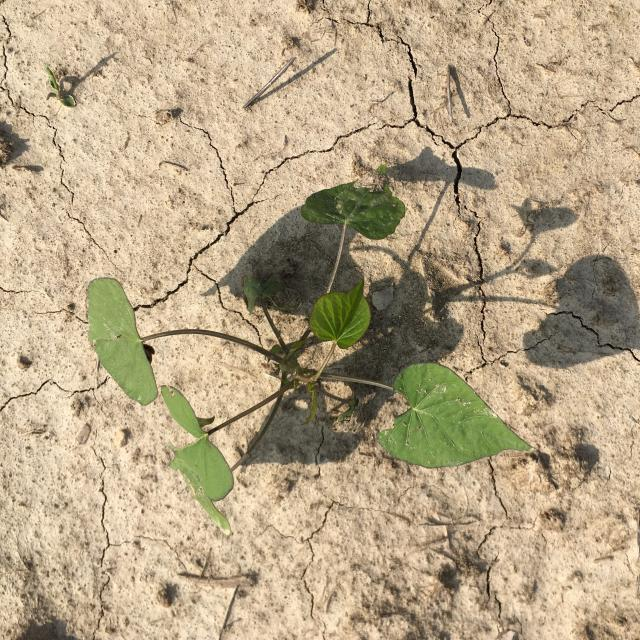MorningGlory: (87, 164, 537, 537)
